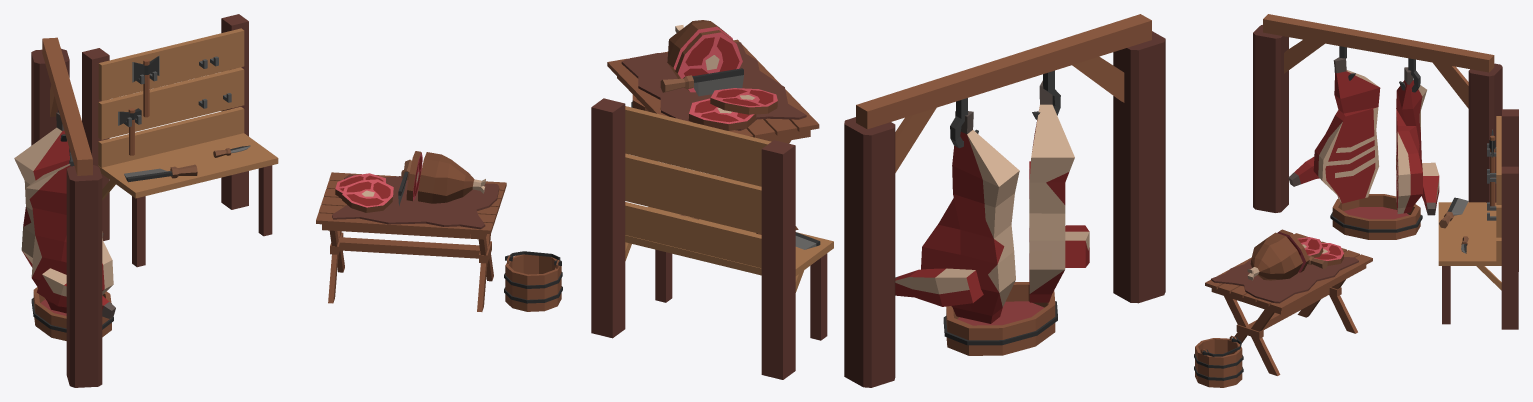
File: Slaughter_house_1.fbx
The picture shows the model from 3 angles, left to right: view 1: azimuth 30°, elevation 25°; view 2: azimuth 150°, elevation 25°; view 3: azimuth 270°, elevation 25°; orthographic projection. The views are drawn at different scales.
Visible parts, largest first — view 1: bench_with_tools.001, pillars_for_cow_carcass.002, table_cross.001, cow_carcass_left, leather_on_frame.007, bucket, cow_carcass_right, ham_rose, meat_rose.003, barrel_with_leather.002, bench_with_tools.004, meat_rose; view 2: pillars_for_cow_carcass.002, bench_with_tools.001, cow_carcass_right, cow_carcass_left, barrel_with_leather.002, leather_on_frame.007, table_cross.001, meat_rose, meat_rose.003, bench_with_tools.002, meat_rose.002, ham_rose; view 3: pillars_for_cow_carcass.002, bench_with_tools.001, cow_carcass_left, table_cross.001, cow_carcass_right, barrel_with_leather.002, leather_on_frame.007, bucket, ham_rose, meat_rose.002, bench_with_tools.004, meat_rose (+1 smaller).
Boxes of the visible parts, left/top/right/bottom form: bench_with_tools.001: left=82, top=14, right=278, bottom=267; pillars_for_cow_carcass.002: left=31, top=37, right=102, bottom=387; table_cross.001: left=316, top=172, right=506, bottom=311; cow_carcass_left: left=26, top=163, right=115, bottom=318; leather_on_frame.007: left=332, top=174, right=499, bottom=229; bucket: left=504, top=254, right=562, bottom=311; cow_carcass_right: left=14, top=112, right=103, bottom=267; ham_rose: left=418, top=152, right=485, bottom=203; meat_rose.003: left=342, top=179, right=393, bottom=212; barrel_with_leather.002: left=31, top=287, right=113, bottom=340; bench_with_tools.004: left=124, top=164, right=197, bottom=182; meat_rose: left=406, top=151, right=422, bottom=201; pillars_for_cow_carcass.002: left=844, top=14, right=1165, bottom=387; bench_with_tools.001: left=591, top=98, right=833, bottom=379; cow_carcass_right: left=895, top=111, right=1019, bottom=323; cow_carcass_left: left=1029, top=80, right=1089, bottom=302; barrel_with_leather.002: left=943, top=282, right=1057, bottom=355; leather_on_frame.007: left=621, top=42, right=806, bottom=130; table_cross.001: left=607, top=39, right=819, bottom=229; meat_rose: left=675, top=30, right=742, bottom=92; meat_rose.003: left=710, top=88, right=777, bottom=114; bench_with_tools.002: left=660, top=68, right=743, bottom=96; meat_rose.002: left=688, top=98, right=756, bottom=130; ham_rose: left=667, top=20, right=733, bottom=78; pillars_for_cow_carcass.002: left=1253, top=14, right=1502, bottom=212; bench_with_tools.001: left=1438, top=109, right=1518, bottom=329; cow_carcass_left: left=1288, top=57, right=1380, bottom=203; table_cross.001: left=1205, top=233, right=1372, bottom=375; cow_carcass_right: left=1396, top=67, right=1439, bottom=215; barrel_with_leather.002: left=1330, top=194, right=1422, bottom=239; leather_on_frame.007: left=1211, top=257, right=1358, bottom=303; bucket: left=1194, top=335, right=1243, bottom=387; ham_rose: left=1247, top=232, right=1302, bottom=280; meat_rose.002: left=1314, top=243, right=1343, bottom=265; bench_with_tools.004: left=1439, top=197, right=1468, bottom=228; meat_rose: left=1277, top=229, right=1309, bottom=272.
Bounding box in the file's own units: 259 × 120 × 187.
